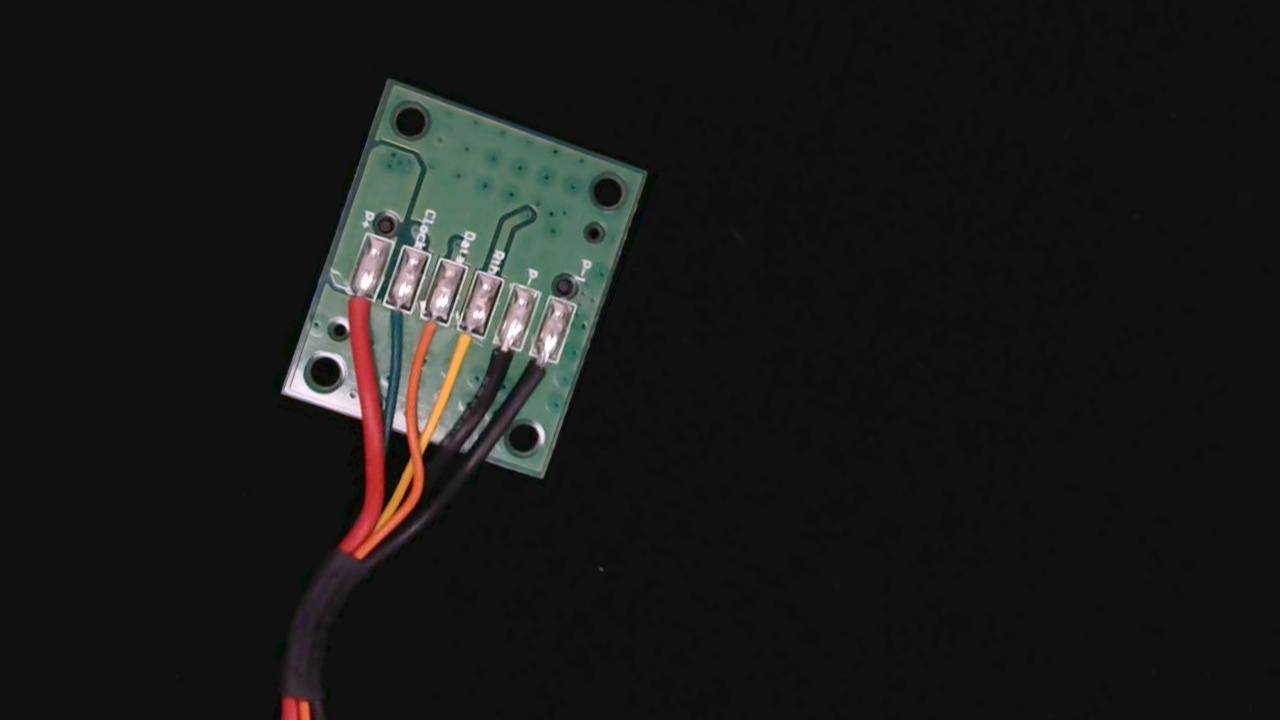Black: (469, 322, 526, 403)
Black1: (509, 338, 563, 413)
Green: (369, 285, 419, 348)
Orange: (402, 299, 454, 369)
Red: (330, 269, 386, 346)
Yellow: (431, 311, 489, 392)
